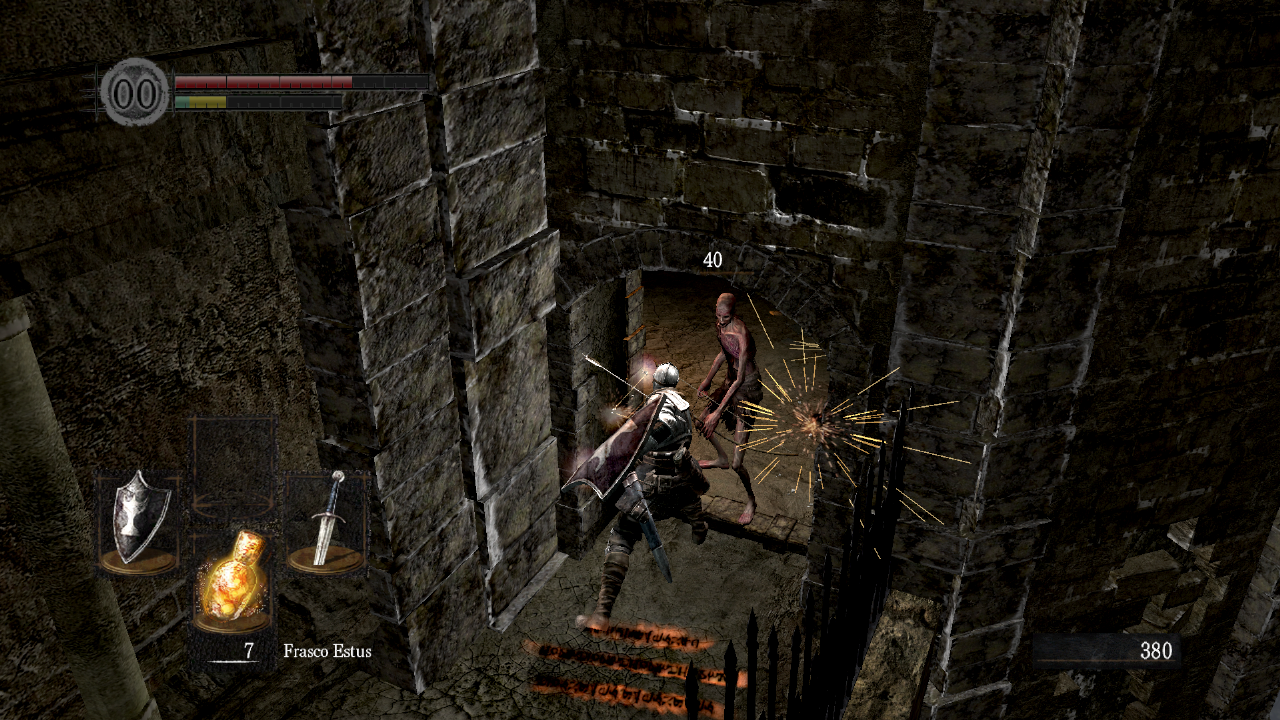hollow: (673, 292, 799, 527)
player: (560, 361, 709, 630)
